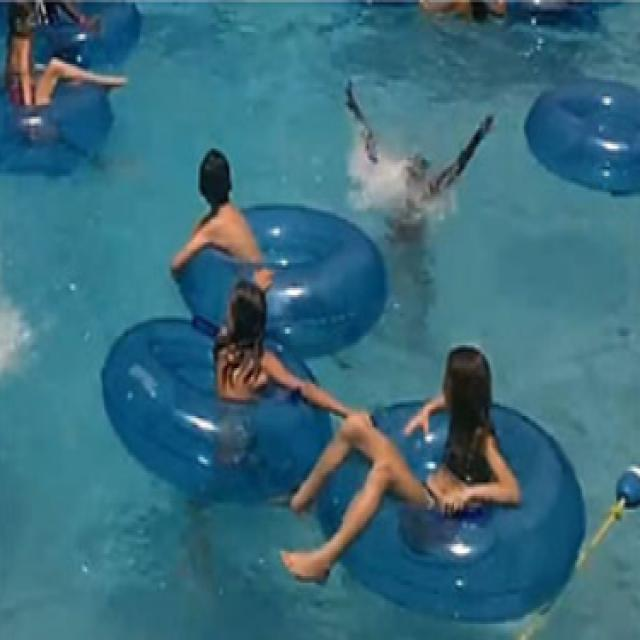Drowning: (344, 77, 496, 249)
Swimming: (397, 344, 521, 510), (202, 276, 325, 415), (171, 141, 266, 277)
